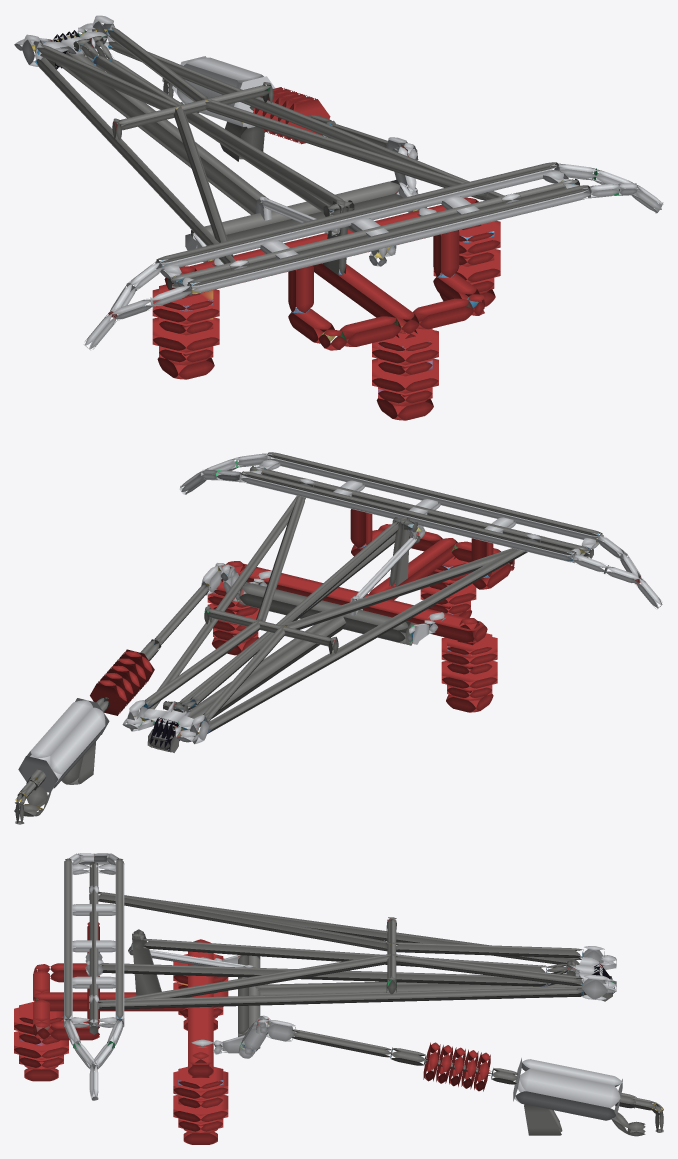
File: ss8_pantograph.obj
3 views of the same model, one above another, from view 1: azimuth 30°, elevation 25°; view 2: azimuth 150°, elevation 25°; view 3: azimuth 270°, elevation 25° (orthographic). The views are drawn at different scales.
Visible parts, largest first — view 1: cube; view 2: cube; view 3: cube.
Boxes of the visible parts, <box> form: cube: <box>14,15,663,420</box>; cube: <box>14,452,662,824</box>; cube: <box>14,853,663,1144</box>.
Size of the model in its own units: 2 by 0.5536 by 2.36.
